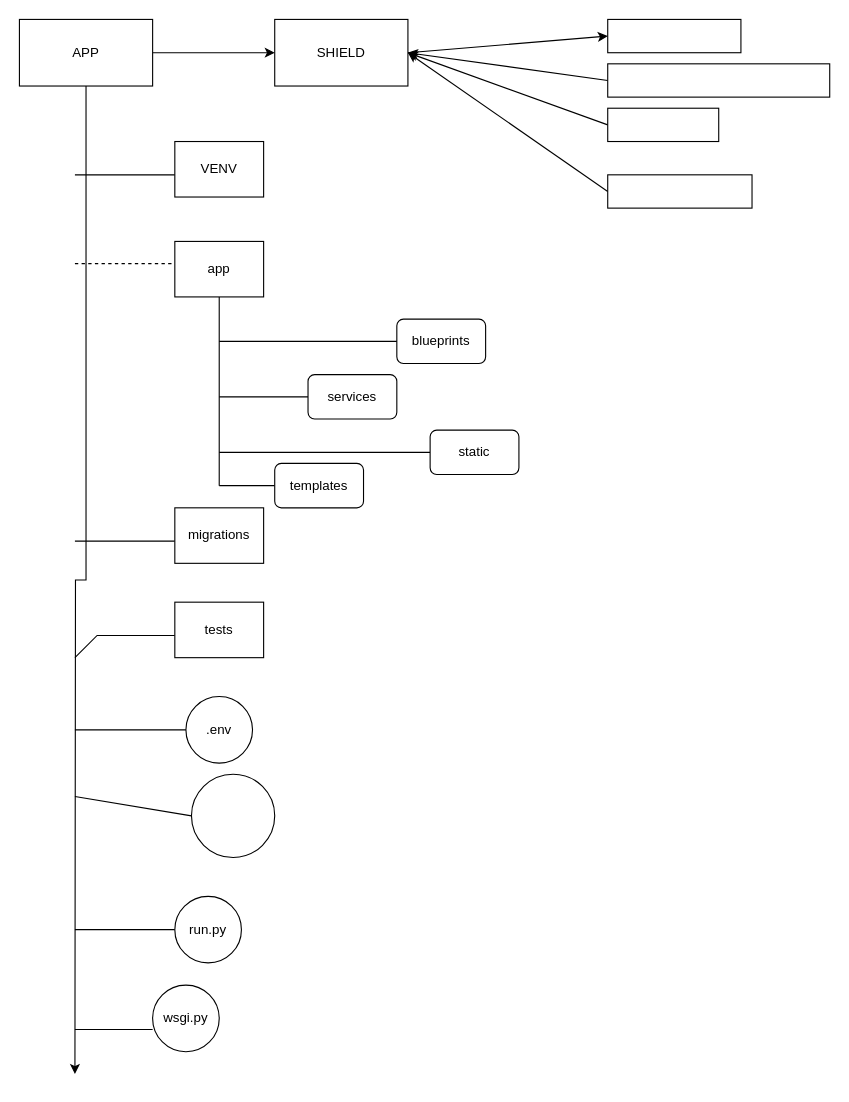
Some shapes in this 849 by 1102 pixel diagram are drawn without their labels. Each missing label, with the centre of its shape:
"Command Injection" belongs at (679,191).
"Insecure Direct Object Reference" belongs at (718,80).
"Rate Limiting" belongs at (674,35).
"requirements" belongs at (232,815).
"Task Queue" belongs at (663,124).
